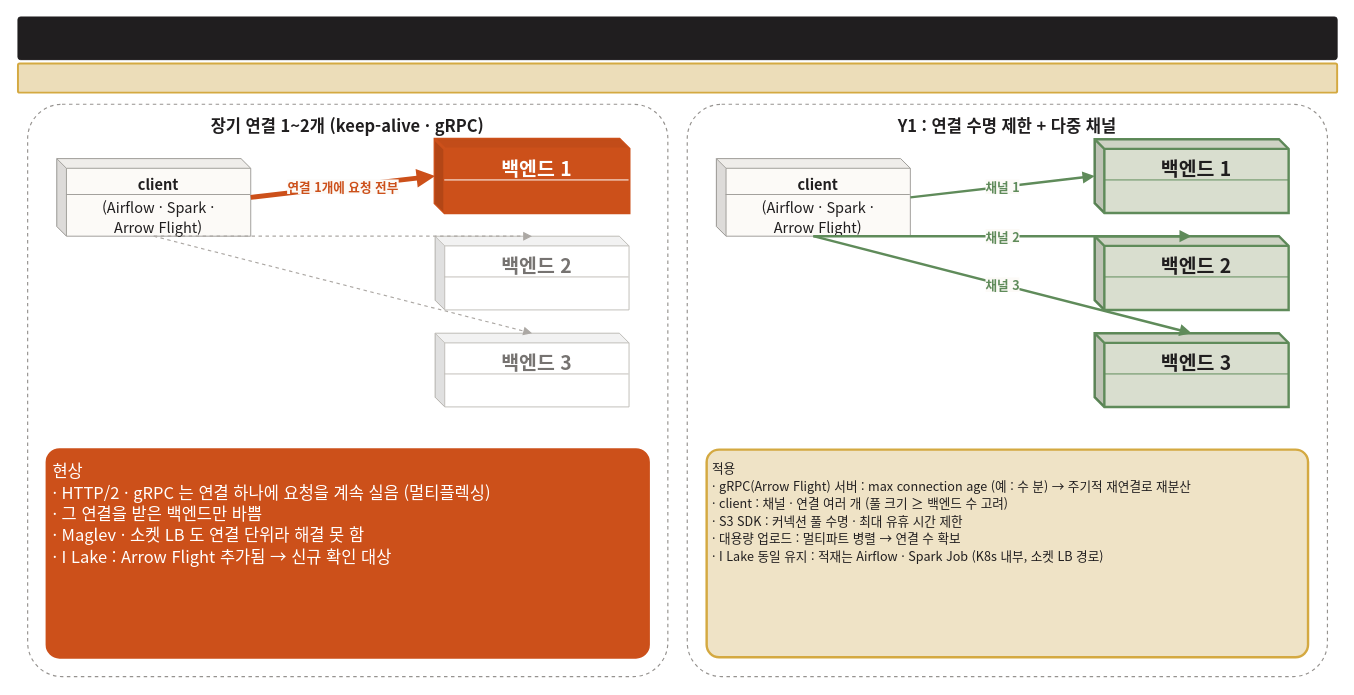
Some shapes in this 1354 by 695 pixel diagram are drawn without their labels. Each missing label, with the centre of its shape:
"L4 LB 는 연결이 처음 맺어질 때만 백엔드를 고름 → 연결이 적고 오래 살면 고르게 나뉘지 않음" goes at (677,77).
"그림 8-1. 연결 단위 분산의 한계 : 장기 연결 · Arrow Flight(gRPC)" goes at (677,38).
